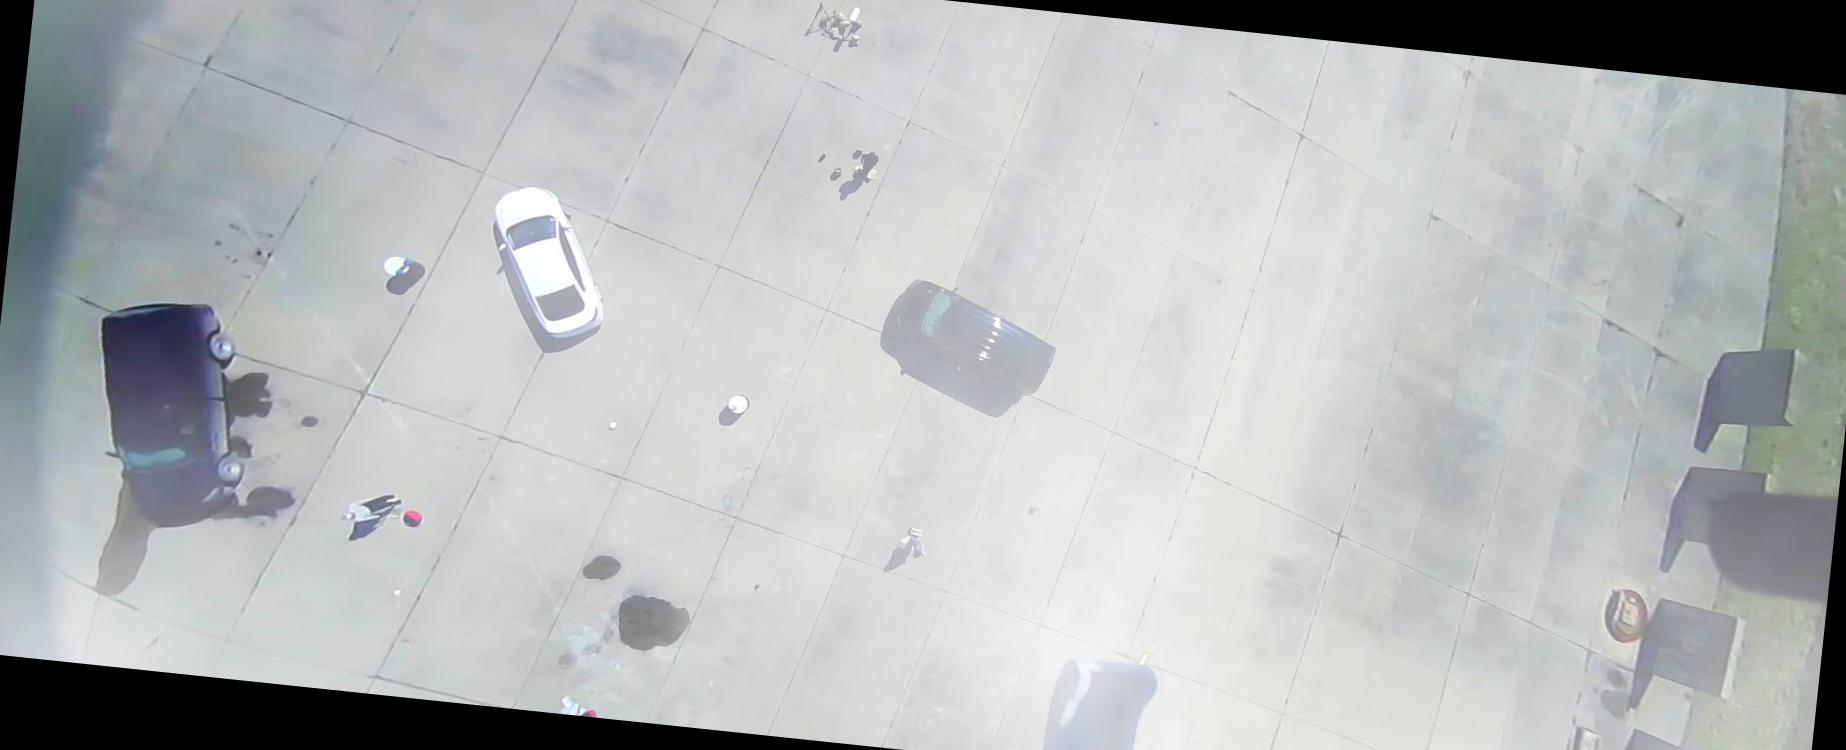vehicle: (79, 292, 261, 537), (480, 181, 617, 344), (890, 277, 1061, 399)
